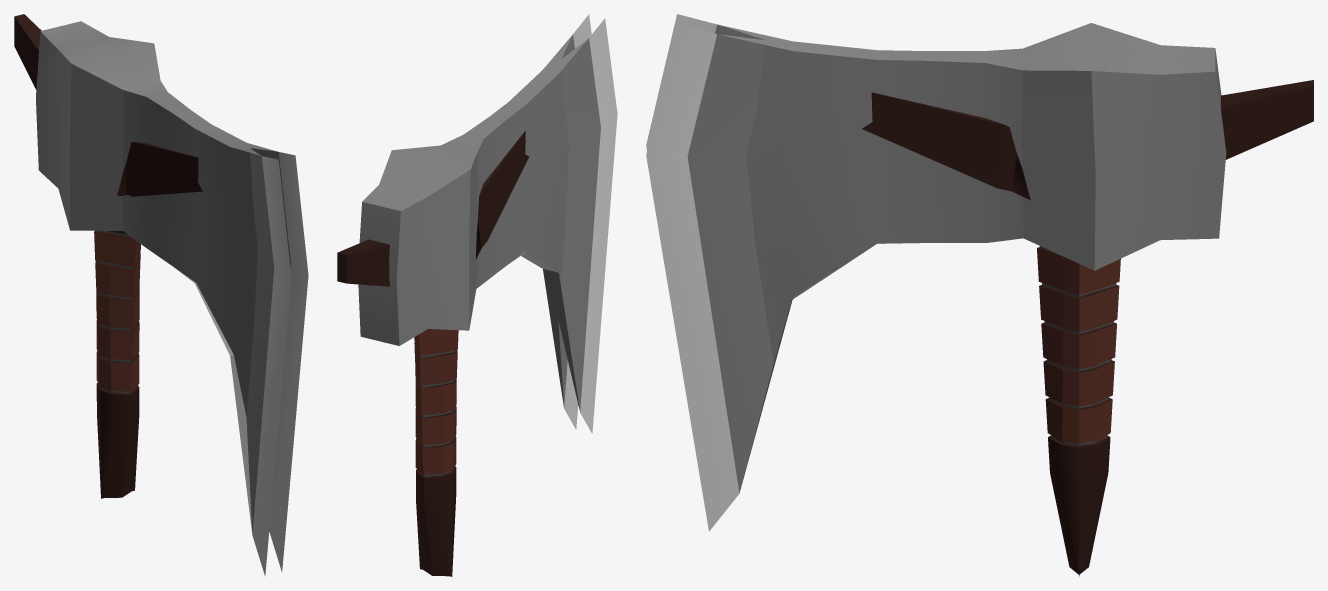
File: Axe15.glb
The picture shows the model from 3 angles, left to right: view 1: azimuth 30°, elevation 25°; view 2: azimuth 150°, elevation 25°; view 3: azimuth 270°, elevation 25°; orthographic projection. The views are drawn at different scales.
Visible parts, largest first — view 1: weapon_generator; view 2: weapon_generator; view 3: weapon_generator.
Part boxes in pixels (left/top/right/bottom): weapon_generator: left=14, top=14, right=308, bottom=576; weapon_generator: left=337, top=14, right=617, bottom=576; weapon_generator: left=646, top=14, right=1313, bottom=576.
Bounding box in the file's own units: 0.0426 × 0.2265 × 0.25.
